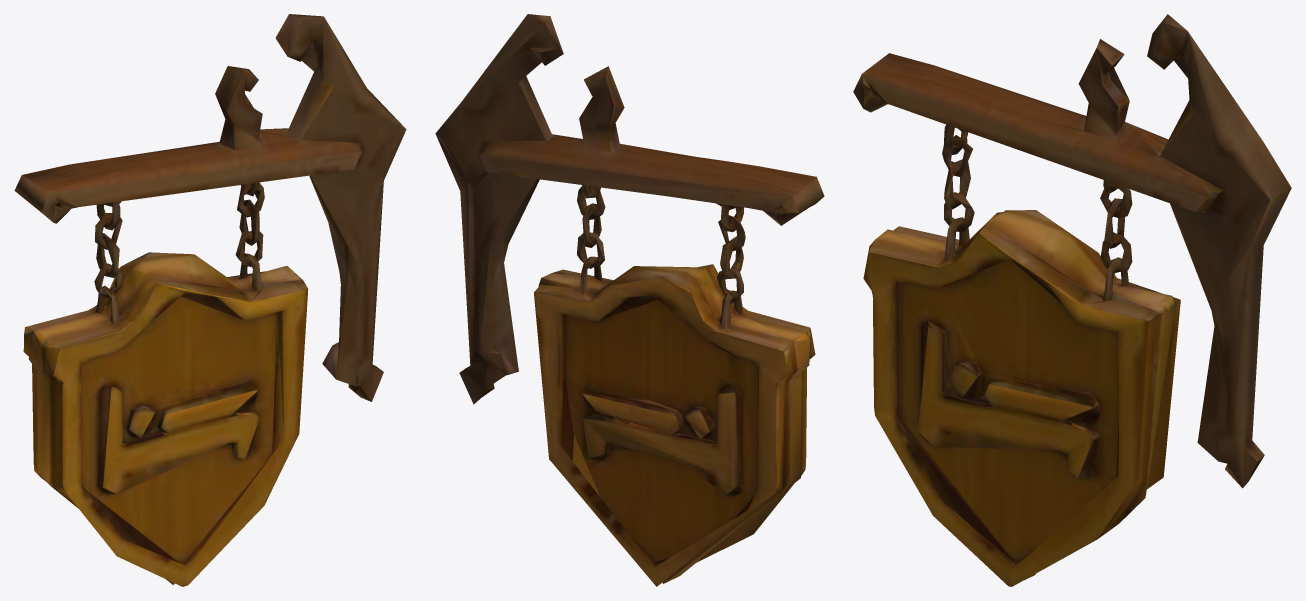
File: obj_sign_inn.glb
3 views of the same model, side by side, from view 1: azimuth 30°, elevation 25°; view 2: azimuth 150°, elevation 25°; view 3: azimuth 330°, elevation 25° (orthographic). The views are drawn at different scales.
Visible parts, largest first — view 1: Mesh_0.009; view 2: Mesh_0.009; view 3: Mesh_0.009.
Boxes of the visible parts, <box> form: Mesh_0.009: <box>14,14,406,586</box>; Mesh_0.009: <box>435,14,824,586</box>; Mesh_0.009: <box>853,14,1291,586</box>.
Bounding box in the file's own units: 1.45 × 1.99 × 0.2249.
1 material, 1 textured.
